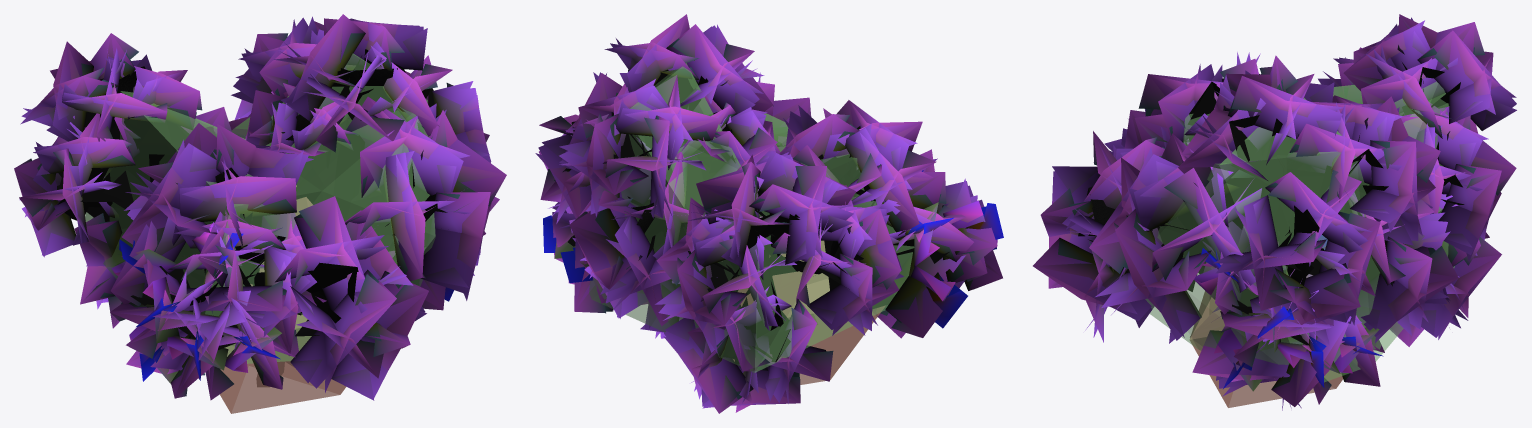
Rendered from holm_oak_bush_huge.dae.
The picture shows the model from 3 angles, left to right: view 1: azimuth 30°, elevation 25°; view 2: azimuth 150°, elevation 25°; view 3: azimuth 270°, elevation 25°; orthographic projection. The views are drawn at different scales.
Visible parts, largest first — view 1: holm_oak_bush_huge_a800, holm_oak_bush_huge_a350, Colmesh-1; view 2: holm_oak_bush_huge_a800, holm_oak_bush_huge_a350, Colmesh-1; view 3: holm_oak_bush_huge_a800, holm_oak_bush_huge_a350, Colmesh-1.
Part boxes in pixels (<box>): holm_oak_bush_huge_a800: <box>14,14,506,400</box>; holm_oak_bush_huge_a350: <box>14,14,506,399</box>; Colmesh-1: <box>85,53,435,413</box>; holm_oak_bush_huge_a800: <box>535,14,1003,413</box>; holm_oak_bush_huge_a350: <box>538,14,1002,413</box>; Colmesh-1: <box>589,63,914,384</box>; holm_oak_bush_huge_a800: <box>1033,14,1516,410</box>; holm_oak_bush_huge_a350: <box>1033,14,1516,408</box>; Colmesh-1: <box>1145,81,1454,407</box>.
Size of the model in its own units: 9.48 by 8.98 by 7.47.
